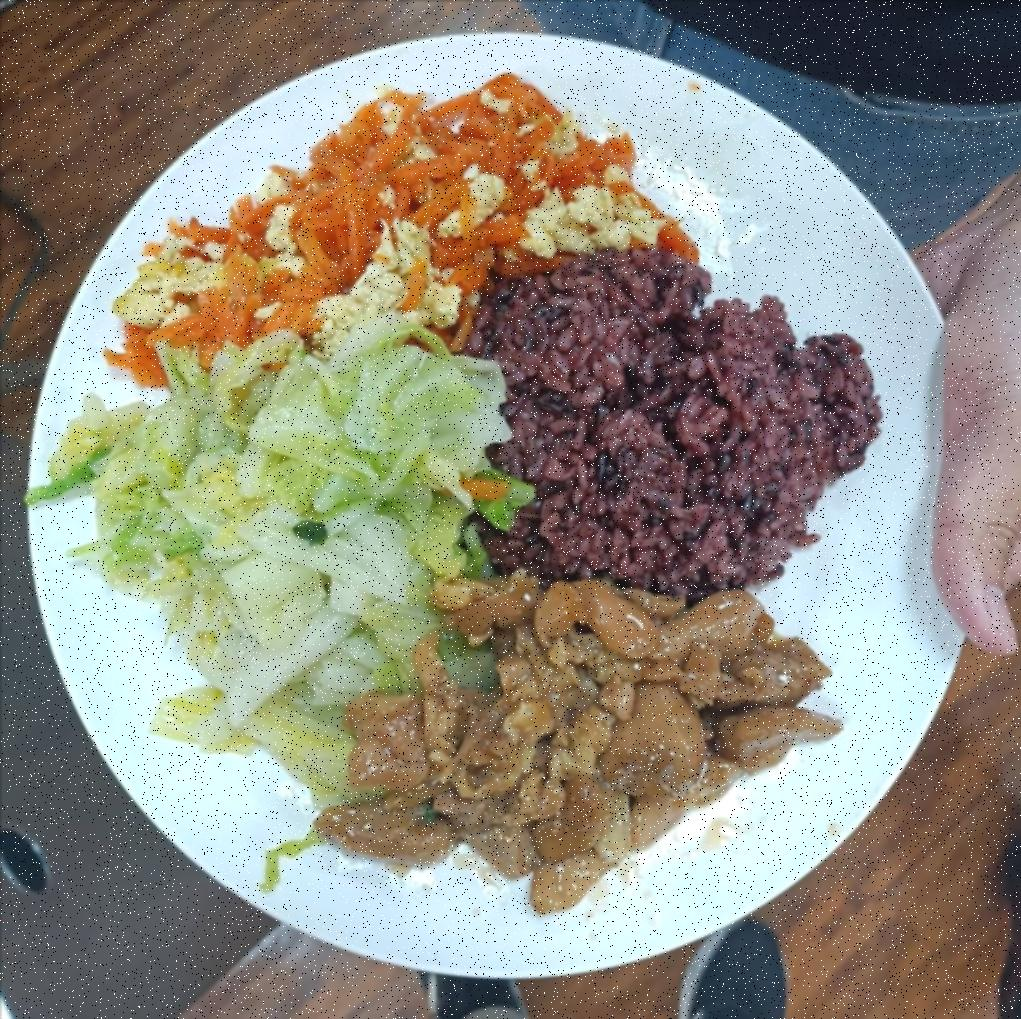plate: (9, 28, 983, 989)
purple rice: (479, 273, 853, 585)
side dish: (83, 332, 483, 720), (123, 90, 656, 352)
three cup chicken: (343, 569, 825, 878)
